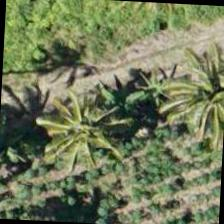Kelapa_Sawit: (38, 77, 133, 172), (174, 49, 223, 143)
